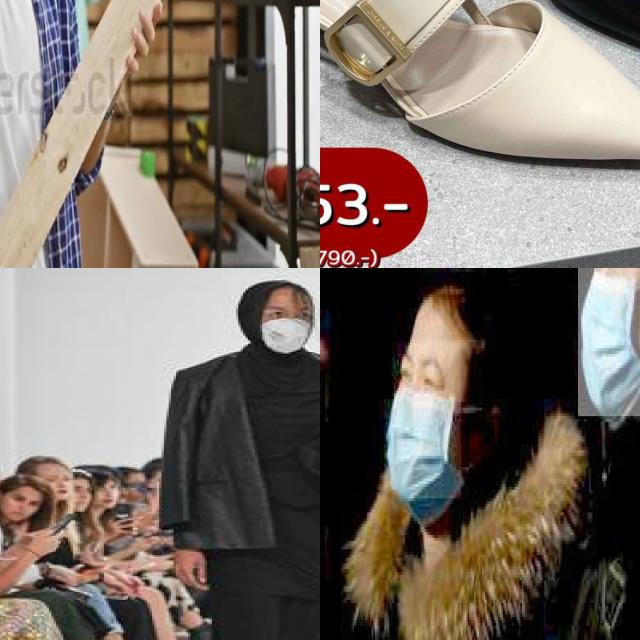Sandals: (320, 0, 640, 205), (387, 0, 640, 101)
face_mask: (384, 342, 462, 498), (578, 268, 640, 418), (258, 304, 312, 354)
face_nomask: (0, 491, 41, 523), (40, 472, 70, 501), (92, 482, 116, 507), (70, 484, 92, 511), (126, 478, 147, 502)
hand_noglove: (164, 547, 212, 589), (21, 527, 72, 559)
head_nohelmet: (404, 278, 485, 342), (250, 275, 308, 307), (19, 451, 76, 477), (2, 472, 53, 499)
person: (330, 271, 546, 640), (159, 276, 320, 640), (0, 0, 117, 268), (560, 268, 640, 640)
